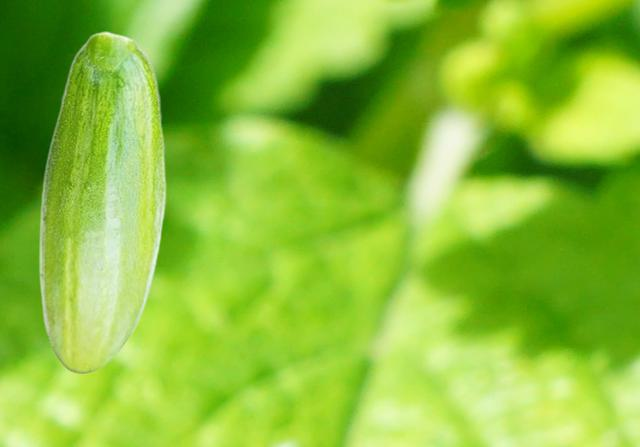cucumber: (38, 31, 165, 373)
